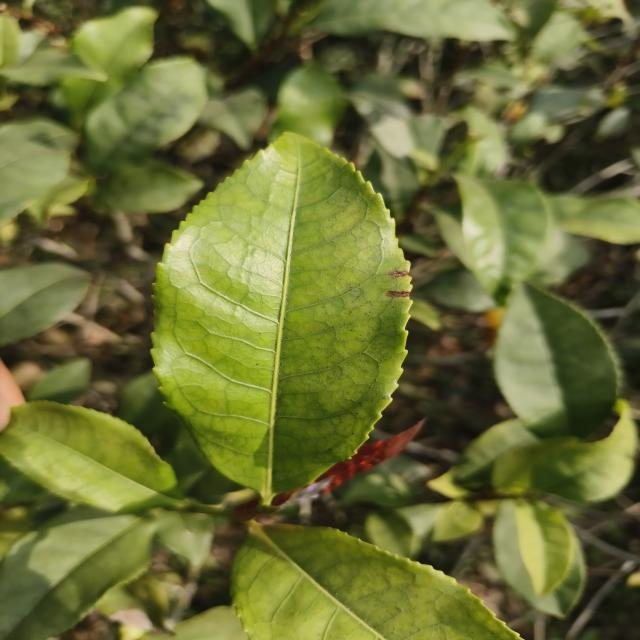Leaf: (152, 133, 411, 498), (233, 524, 519, 640), (0, 507, 155, 640), (0, 401, 183, 512), (494, 283, 619, 438), (84, 57, 207, 171), (455, 174, 550, 302), (62, 6, 158, 124), (531, 401, 637, 502), (453, 419, 579, 491), (299, 0, 514, 41), (0, 262, 89, 346), (270, 64, 343, 147), (93, 159, 202, 213), (0, 138, 70, 222), (514, 502, 572, 595), (546, 195, 640, 244), (198, 88, 267, 150), (0, 47, 107, 86), (115, 371, 176, 438), (454, 106, 508, 177), (157, 511, 215, 567), (27, 358, 91, 403), (364, 511, 420, 558), (531, 14, 582, 63), (432, 501, 483, 542)
